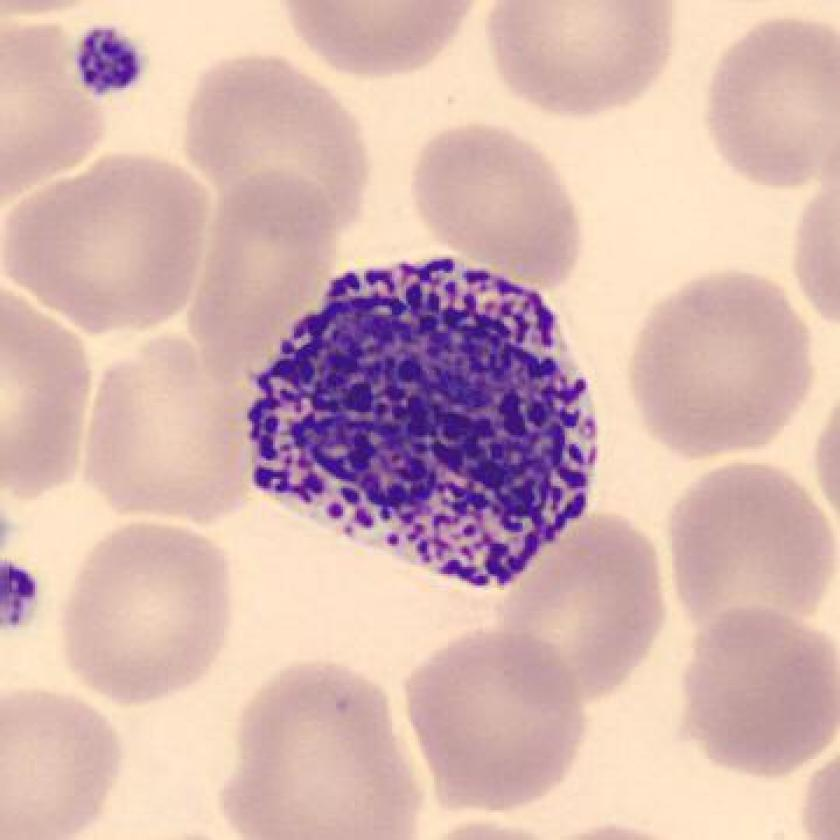basophil: (232, 244, 605, 591)
